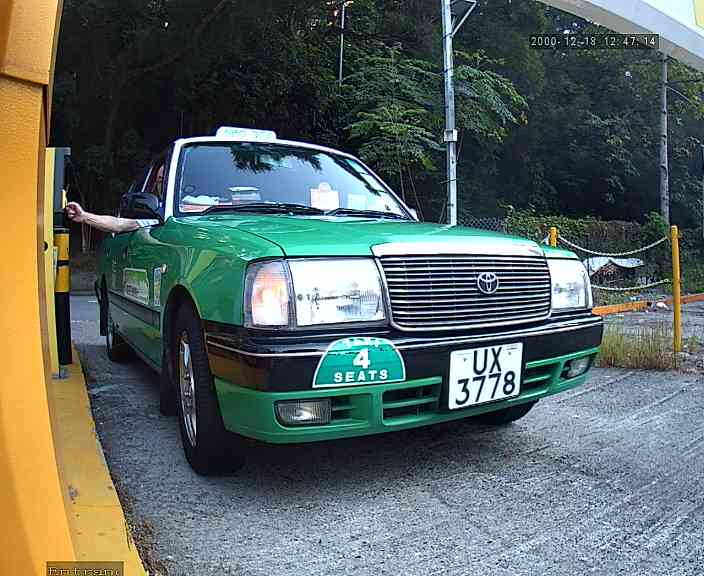taxi: (64, 93, 624, 506)
taxi_mark: (308, 327, 413, 401)
